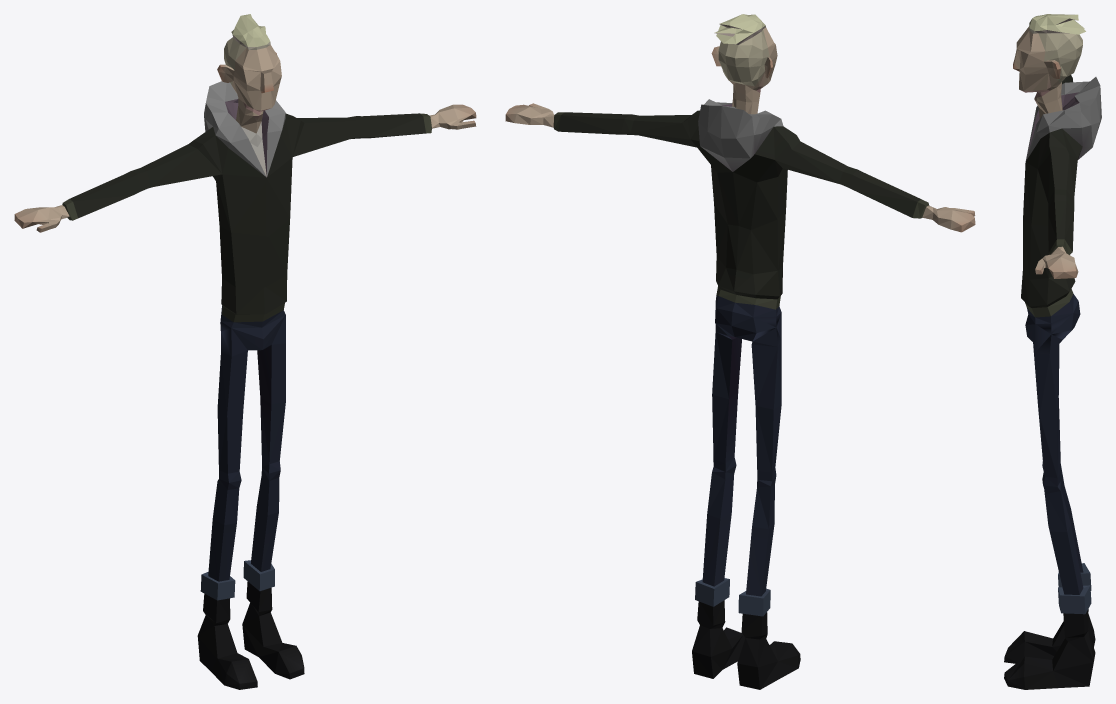
Rendered from daniel5.fbx.
3 renders of one model, left to right at view 1: azimuth 30°, elevation 25°; view 2: azimuth 150°, elevation 25°; view 3: azimuth 270°, elevation 25°, orthographic. The views are drawn at different scales.
Visible parts, largest first — view 1: Cube.003; view 2: Cube.003; view 3: Cube.003.
Part boxes in pixels (<box>): Cube.003: <box>14,14,476,689</box>; Cube.003: <box>505,14,975,689</box>; Cube.003: <box>1004,14,1101,689</box>.
Bounding box in the file's own units: 197 × 266 × 35.93.
